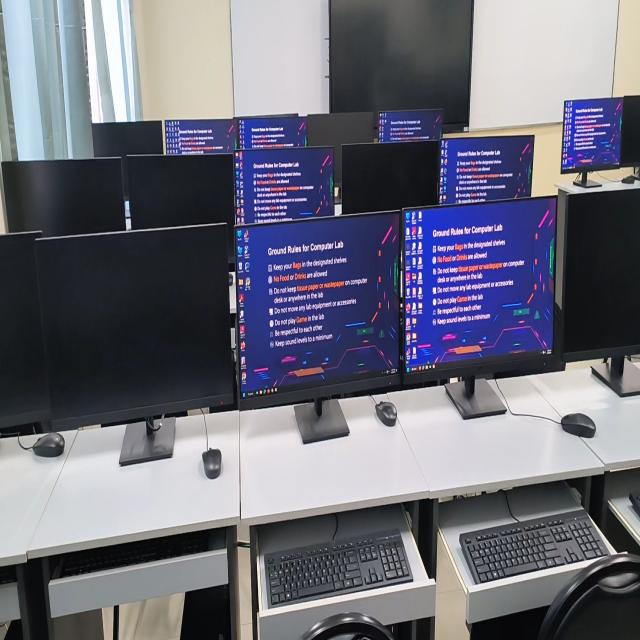Chair: (470, 553, 640, 639), (301, 612, 394, 639), (553, 302, 564, 369)
Cpu: (180, 585, 230, 639)
Digital board: (330, 0, 474, 131)
Keyboard: (265, 529, 412, 606), (460, 511, 604, 583), (49, 531, 209, 577), (629, 493, 640, 516)
Monitor: (36, 223, 234, 466), (236, 211, 400, 444), (402, 197, 556, 418), (562, 188, 640, 396), (127, 155, 235, 260), (0, 232, 51, 437), (2, 158, 125, 236), (234, 148, 334, 223), (342, 141, 439, 213), (439, 136, 534, 203), (561, 98, 623, 188), (307, 111, 376, 187), (92, 121, 163, 185), (165, 119, 236, 154), (237, 114, 307, 149), (379, 110, 442, 142), (620, 95, 640, 167)
Mouse: (561, 414, 596, 437), (33, 432, 65, 457), (202, 448, 222, 479), (375, 402, 397, 426), (621, 174, 638, 183), (229, 273, 234, 285)
